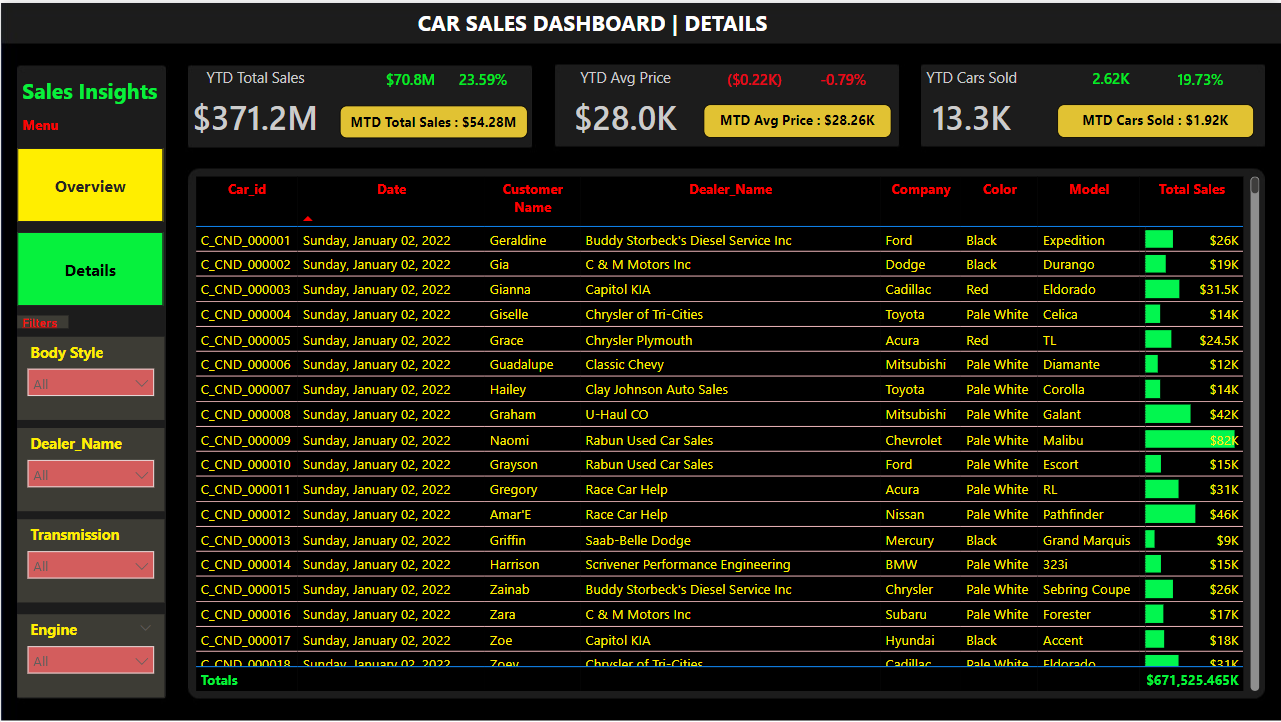

What the dashboard file says about the page in this screenshot:
{"tool":"powerbi","page":{"name":"Details","canvas":[1280,720],"ordinal":1},"visuals":[{"type":"card","title":"YTD Total Sales","fields":{"Values":["car_data.YTD Total Sales"]},"box":[170.3,63.5,169,81.1],"z":0},{"type":"card","fields":{"Values":["car_data.Sales Diffrence"]},"box":[365,63.5,89.2,29.7],"z":1000},{"type":"card","fields":{"Values":["car_data.YoY Sales Growth"]},"box":[438,63.5,89.2,29.7],"z":2000},{"type":"card","fields":{"Values":["car_data.MTD KPI"]},"box":[339.3,102.7,187.9,33],"z":3000},{"type":"card","title":"YTD Avg Price","fields":{"Values":["car_data.YTD Avg Price"]},"box":[539.4,63.5,169,81.1],"z":4000},{"type":"card","fields":{"Values":["car_data.Avg Price Diff"]},"box":[708.4,63.5,89.2,29.7],"z":5000},{"type":"card","fields":{"Values":["car_data.YoY Avg Price Growth"]},"box":[797.6,63.5,89.2,29.7],"z":6000},{"type":"card","fields":{"Values":["car_data.MPd Avg Price KPI"]},"box":[703,101.4,187.9,33.8],"z":7000},{"type":"card","title":"YTD Cars Sold","fields":{"Values":["car_data.YTD Cars Sold"]},"box":[886.9,63.5,169,81.1],"z":8000},{"type":"card","fields":{"Values":["car_data.Cars Sold Diff"]},"box":[1064.4,63,89.7,30.3],"z":9000},{"type":"card","fields":{"Values":["car_data.Yoy Car Sold Growth"]},"box":[1154.5,63.5,89.2,29.7],"z":10000},{"type":"card","fields":{"Values":["car_data.MTD Cars Sold KPI"]},"box":[1056,101.8,196.4,33.9],"z":11000},{"type":"textbox","box":[407.4,0,368.1,40.4],"z":12000},{"type":"slicer","fields":{"Values":["car_data.Body Style"]},"box":[16,334,146.8,83],"z":13000},{"type":"slicer","fields":{"Values":["car_data.Dealer_Name"]},"box":[16,425.5,146.8,83],"z":14000},{"type":"slicer","fields":{"Values":["car_data.Transmission"]},"box":[16,516,146.8,83],"z":15000},{"type":"slicer","fields":{"Values":["car_data.Engine"]},"box":[16,610.6,146.8,83],"z":16000},{"type":"textbox","title":"Filters","box":[16,312.8,51.1,12.8],"z":17000},{"type":"tableEx","fields":{"Values":["car_data.Car_id","car_data.Date","car_data.Customer Name","car_data.Dealer_Name","car_data.Company","car_data.Color","car_data.Model","car_data.Price ($)"]},"box":[189.4,169.1,1074.5,524.5],"z":18000},{"type":"textbox","title":"Sales Insights","box":[16.2,72.5,146.2,31.2],"z":19000},{"type":"textbox","title":"Menu","box":[16.2,112.5,103.8,22.5],"z":20000},{"type":"pageNavigator","box":[16.2,145,146.2,158.8],"z":21000}]}

Visuals, with their boxes in screenshot pixels (x1, y1, x2, y2), scaled from the page's 1280x720 canvas onto the 1281x722 screenshot:
"YTD Total Sales" card: bbox(170, 64, 340, 145)
card - car_data.Sales Diffrence: bbox(365, 64, 455, 93)
card - car_data.YoY Sales Growth: bbox(438, 64, 528, 93)
card - car_data.MTD KPI: bbox(340, 103, 528, 136)
"YTD Avg Price" card: bbox(540, 64, 709, 145)
card - car_data.Avg Price Diff: bbox(709, 64, 798, 93)
card - car_data.YoY Avg Price Growth: bbox(798, 64, 887, 93)
card - car_data.MPd Avg Price KPI: bbox(704, 102, 892, 136)
"YTD Cars Sold" card: bbox(888, 64, 1057, 145)
card - car_data.Cars Sold Diff: bbox(1065, 63, 1155, 94)
card - car_data.Yoy Car Sold Growth: bbox(1155, 64, 1245, 93)
card - car_data.MTD Cars Sold KPI: bbox(1057, 102, 1253, 136)
textbox: bbox(408, 0, 776, 41)
slicer - car_data.Body Style: bbox(16, 335, 163, 418)
slicer - car_data.Dealer_Name: bbox(16, 427, 163, 510)
slicer - car_data.Transmission: bbox(16, 517, 163, 601)
slicer - car_data.Engine: bbox(16, 612, 163, 696)
"Filters" textbox: bbox(16, 314, 67, 327)
tableEx - car_data.Car_id x car_data.Date: bbox(190, 170, 1265, 696)
"Sales Insights" textbox: bbox(16, 73, 163, 104)
"Menu" textbox: bbox(16, 113, 120, 135)
pageNavigator: bbox(16, 145, 163, 305)
